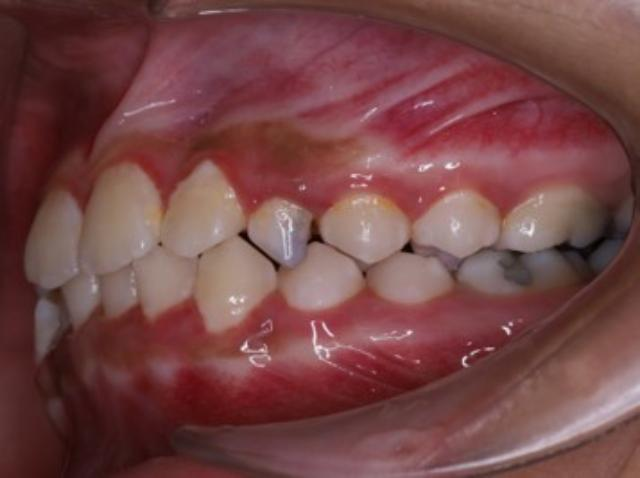molar class III 1/4: (454, 170, 616, 306)
